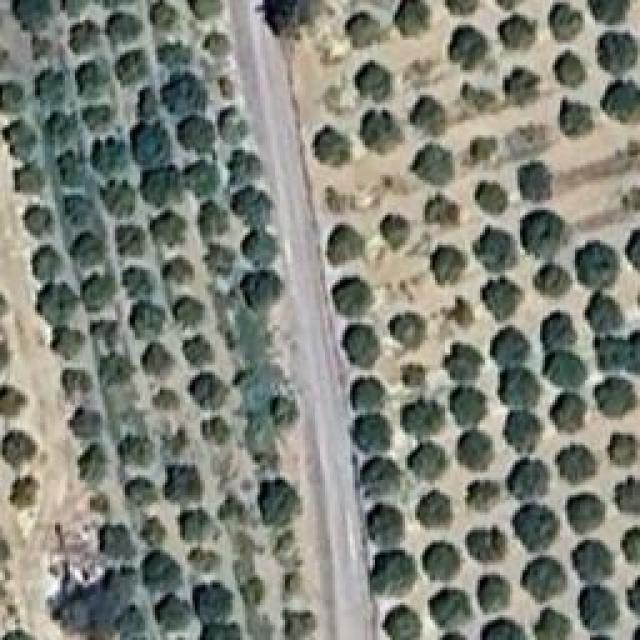Tree: (512, 502, 560, 552), (523, 210, 567, 258), (258, 478, 301, 526), (523, 557, 568, 602), (473, 228, 517, 274), (578, 243, 621, 290), (163, 73, 208, 116), (595, 333, 640, 375), (403, 398, 447, 440), (410, 144, 454, 186), (373, 555, 418, 596), (483, 277, 524, 322), (360, 110, 401, 155), (130, 123, 169, 170), (508, 458, 551, 500), (580, 585, 620, 630), (265, 0, 317, 34), (573, 540, 613, 583), (595, 377, 638, 417), (598, 33, 638, 76), (38, 283, 78, 326), (367, 502, 405, 547), (333, 278, 374, 319), (500, 368, 540, 410), (490, 328, 530, 370), (193, 583, 233, 625), (143, 165, 183, 207), (450, 28, 489, 71), (545, 350, 589, 388), (430, 590, 471, 630), (555, 445, 596, 485), (360, 458, 401, 498), (143, 550, 182, 592), (505, 410, 543, 453), (602, 80, 640, 123), (240, 270, 283, 308), (343, 325, 379, 370), (353, 414, 393, 454), (445, 342, 485, 382), (585, 293, 624, 334), (568, 494, 607, 534), (327, 225, 365, 266), (315, 125, 353, 166), (422, 542, 460, 582), (408, 443, 448, 481), (458, 430, 494, 472), (233, 185, 269, 227), (502, 68, 540, 106), (92, 138, 130, 176), (190, 373, 229, 410), (550, 394, 586, 434), (450, 388, 486, 428), (430, 245, 466, 285), (410, 95, 445, 136), (165, 465, 203, 502), (498, 15, 537, 51), (355, 62, 391, 101), (543, 312, 578, 352), (415, 490, 451, 528), (345, 13, 383, 49), (3, 430, 39, 468), (130, 300, 166, 338), (178, 115, 214, 153), (518, 162, 552, 202), (5, 120, 38, 161), (150, 210, 186, 247), (535, 262, 573, 297), (100, 180, 135, 218), (75, 60, 110, 98), (550, 3, 584, 42), (58, 598, 97, 632), (393, 313, 428, 350), (185, 160, 220, 197), (228, 150, 263, 187), (83, 273, 117, 311), (478, 575, 511, 614), (470, 528, 505, 564), (395, 0, 430, 36), (155, 595, 190, 631), (70, 233, 105, 269), (243, 230, 277, 267), (560, 100, 593, 138), (198, 200, 229, 240), (383, 605, 418, 640), (555, 50, 588, 87), (78, 443, 107, 485), (353, 377, 387, 412), (100, 528, 136, 561), (115, 50, 148, 86), (13, 0, 51, 31), (45, 112, 79, 146), (100, 353, 136, 385), (218, 108, 249, 145), (35, 70, 65, 108), (143, 344, 176, 378), (475, 183, 508, 216), (53, 328, 86, 361), (425, 195, 459, 227), (118, 435, 151, 467), (70, 408, 103, 440), (380, 216, 411, 250), (538, 610, 573, 640), (118, 605, 148, 640), (105, 15, 140, 45), (33, 245, 62, 281), (57, 150, 85, 187), (183, 335, 214, 368), (173, 298, 206, 329), (273, 532, 304, 565), (468, 482, 502, 512), (108, 573, 143, 602), (10, 475, 40, 508), (23, 205, 53, 238), (463, 82, 497, 111), (588, 0, 630, 23), (70, 20, 99, 53), (445, 298, 475, 329), (615, 478, 640, 515), (610, 433, 638, 466), (270, 395, 298, 428), (483, 620, 528, 640), (15, 164, 45, 194), (150, 0, 179, 31), (0, 385, 28, 417), (207, 245, 235, 277), (285, 610, 314, 640), (158, 44, 194, 68), (182, 512, 210, 542), (65, 197, 93, 227), (163, 258, 194, 285), (202, 418, 230, 446), (128, 480, 158, 506), (118, 227, 144, 257), (190, 547, 221, 572), (63, 370, 92, 396), (143, 517, 168, 547), (93, 322, 119, 350), (202, 33, 230, 59), (240, 578, 265, 606), (200, 623, 241, 640), (128, 267, 151, 297), (470, 138, 496, 164), (187, 0, 221, 19), (83, 108, 111, 131), (622, 528, 640, 563), (220, 495, 244, 521), (138, 88, 158, 119), (625, 230, 640, 271), (0, 85, 22, 112), (155, 388, 181, 410), (403, 365, 426, 387), (285, 573, 303, 601), (627, 577, 640, 614), (35, 34, 53, 60), (0, 625, 33, 639), (445, 0, 477, 14), (63, 0, 90, 16), (90, 495, 108, 513), (220, 78, 234, 100), (233, 370, 251, 387), (498, 0, 523, 10), (103, 0, 134, 8), (2, 340, 10, 370), (440, 632, 468, 640)
